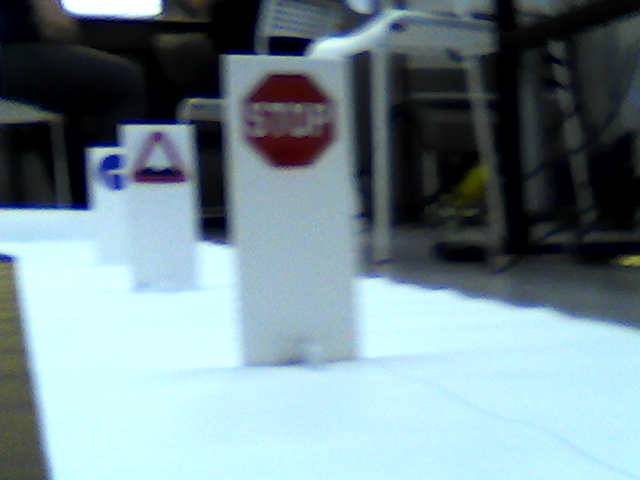Nerov: (131, 133, 189, 182)
Stop: (243, 61, 337, 172)
